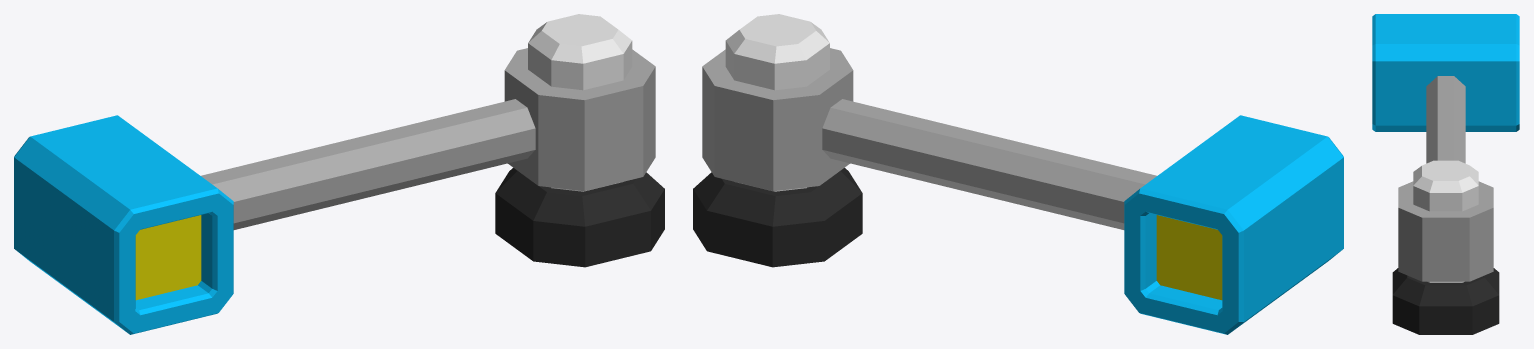
3 renders of one model, left to right at view 1: azimuth 30°, elevation 25°; view 2: azimuth 150°, elevation 25°; view 3: azimuth 270°, elevation 25°, orthographic. The views are drawn at different scales.
Visible parts, largest first — view 1: pCube107, pCube113; view 2: pCube107, pCube113; view 3: pCube107, pCube113.
Boxes of the visible parts, x1,y1,x2,y2 form: pCube107: (14, 48, 655, 334); pCube113: (495, 14, 664, 267); pCube107: (702, 48, 1343, 334); pCube113: (693, 14, 862, 267); pCube107: (1372, 14, 1519, 281); pCube113: (1392, 160, 1499, 334).
Bounding box in the file's own units: 385 × 127 × 120.
